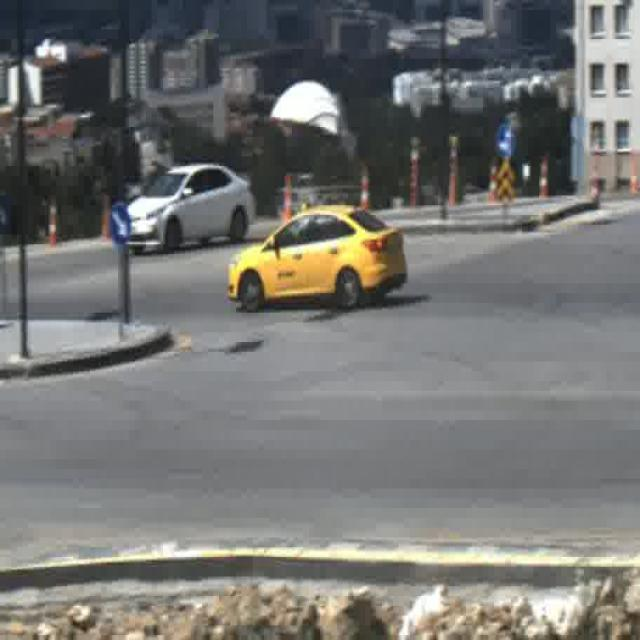Car: (228, 202, 408, 311), (128, 163, 254, 256)
